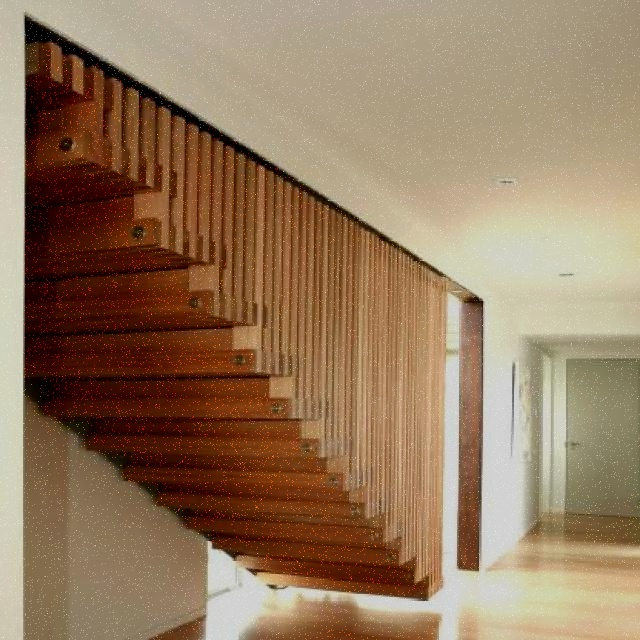stair: (38, 91, 460, 615)
